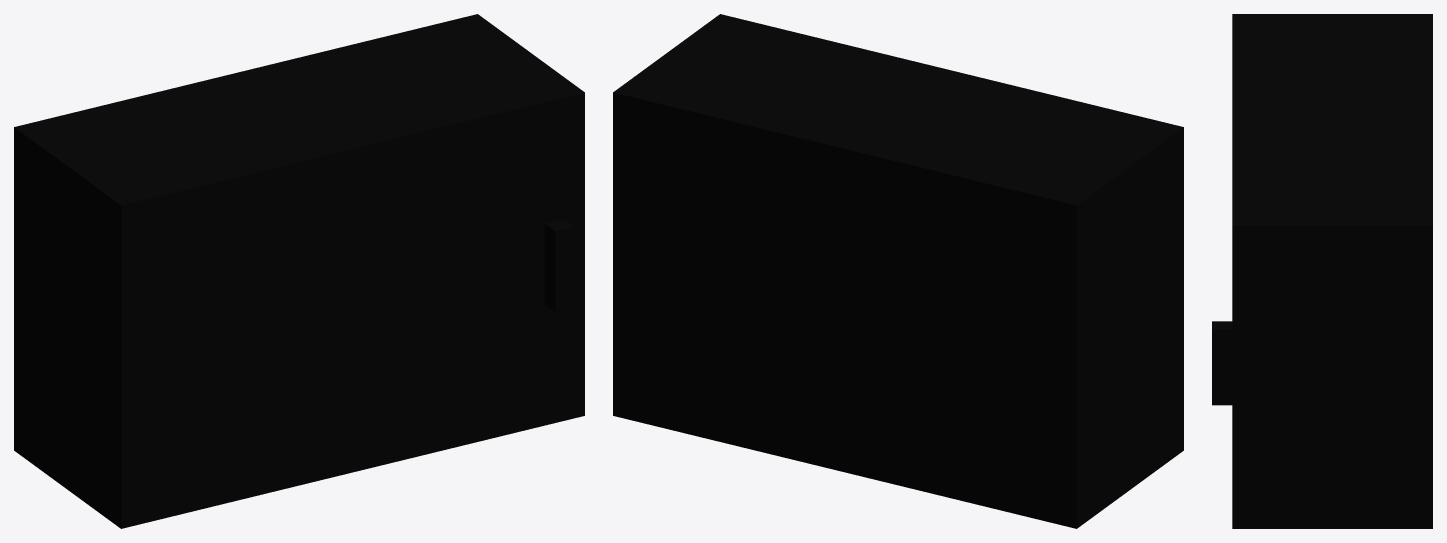
File: SM_first_aid_kit.fbx
3 renders of one model, left to right at view 1: azimuth 30°, elevation 25°; view 2: azimuth 150°, elevation 25°; view 3: azimuth 270°, elevation 25°, orthographic. The views are drawn at different scales.
Parts seen in each view (by area): view 1: first_aid_kit_door, first_aid_kit; view 2: first_aid_kit, first_aid_kit_door; view 3: first_aid_kit, first_aid_kit_door.
Boxes of the visible parts, left/top/right/bottom form: first_aid_kit_door: left=103, top=79, right=584, bottom=528; first_aid_kit: left=14, top=14, right=566, bottom=515; first_aid_kit: left=613, top=27, right=1165, bottom=528; first_aid_kit_door: left=703, top=14, right=1183, bottom=463; first_aid_kit: left=1265, top=14, right=1432, bottom=528; first_aid_kit_door: left=1212, top=14, right=1265, bottom=528.
Bounding box in the file's own units: 0.3 × 0.2 × 0.132.
